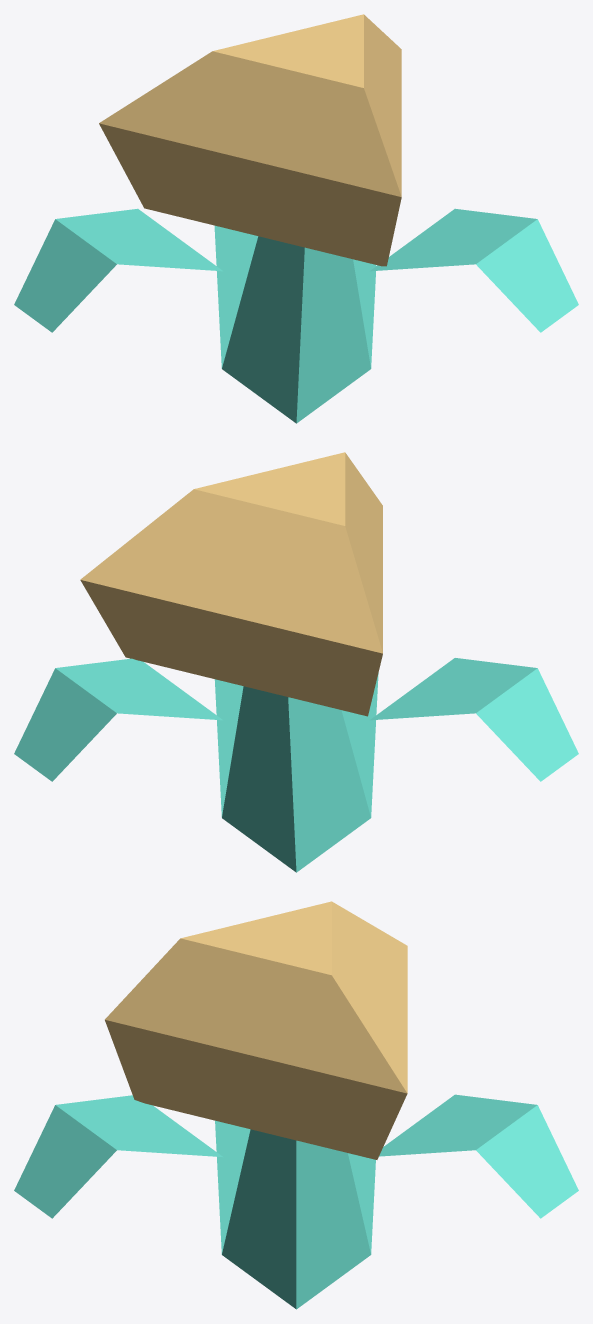
The model's file is kenney-nature__flower_yellowB.glb.
The picture shows the model from 3 angles, top to bottom: view 1: azimuth 30°, elevation 25°; view 2: azimuth 150°, elevation 25°; view 3: azimuth 270°, elevation 25°; orthographic projection.
Visible parts, largest first — view 1: flower_yellowB; view 2: flower_yellowB; view 3: flower_yellowB.
Boxes of the visible parts, x1,y1,x2,y2 form: flower_yellowB: (14,14,578,423); flower_yellowB: (14,452,578,872); flower_yellowB: (14,901,578,1309).
Bounding box in the file's own units: 0.2073 × 0.1585 × 0.2392.
